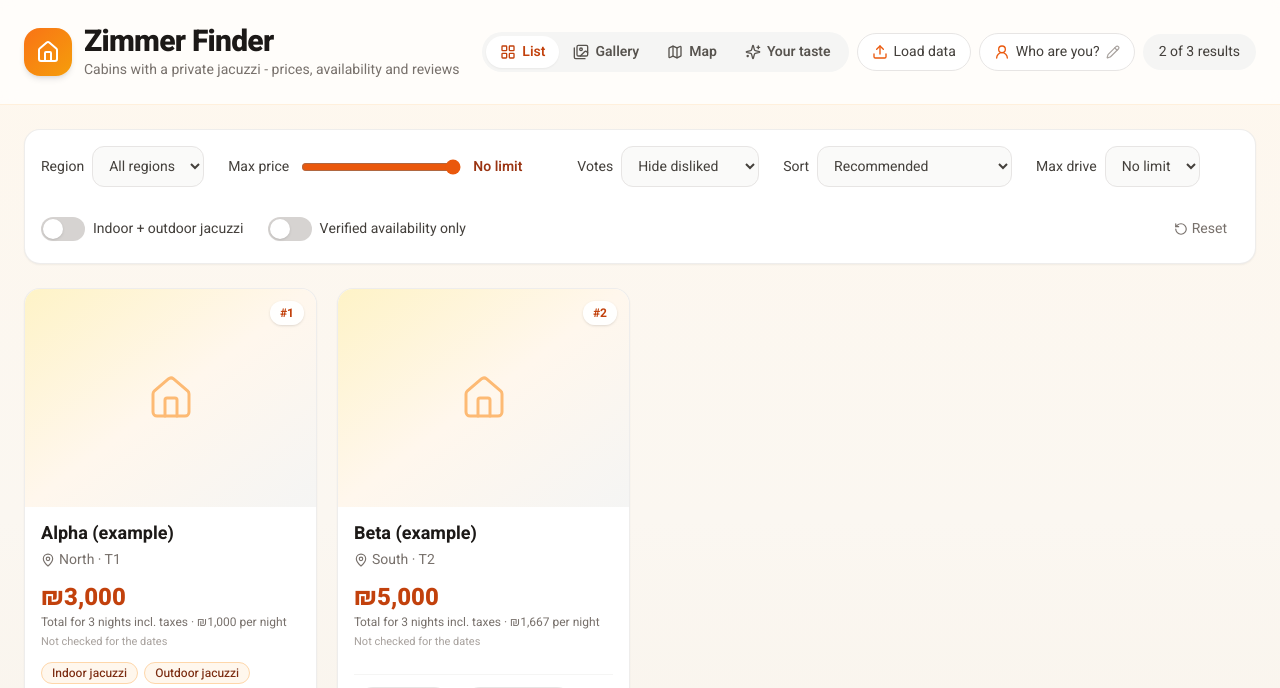
viewer mode › shows an error for invalid pasted JSON
Expected: the heading "Alpha (example)" is shown, [41,520,174,547]
Click the button "Load data" at (914, 52), box [857,33,971,71]
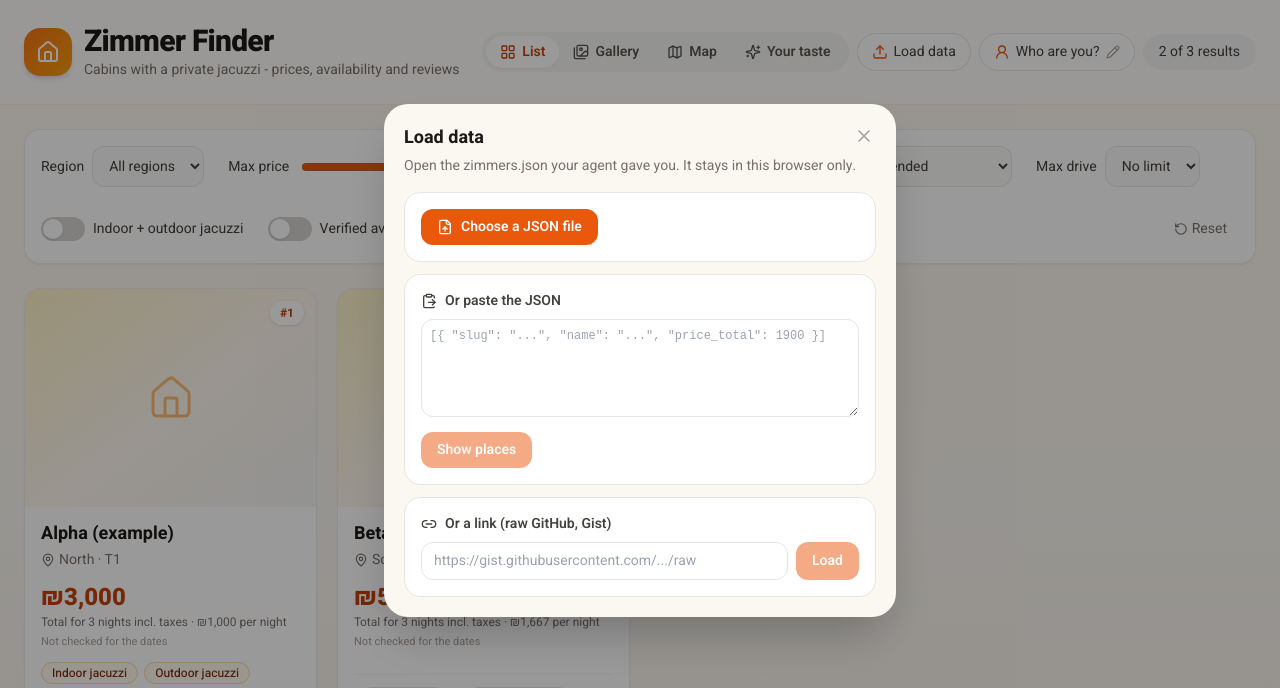
Type "not json" into the text box labelled "Or paste the JSON" at (640, 368), box [421,318,859,416]
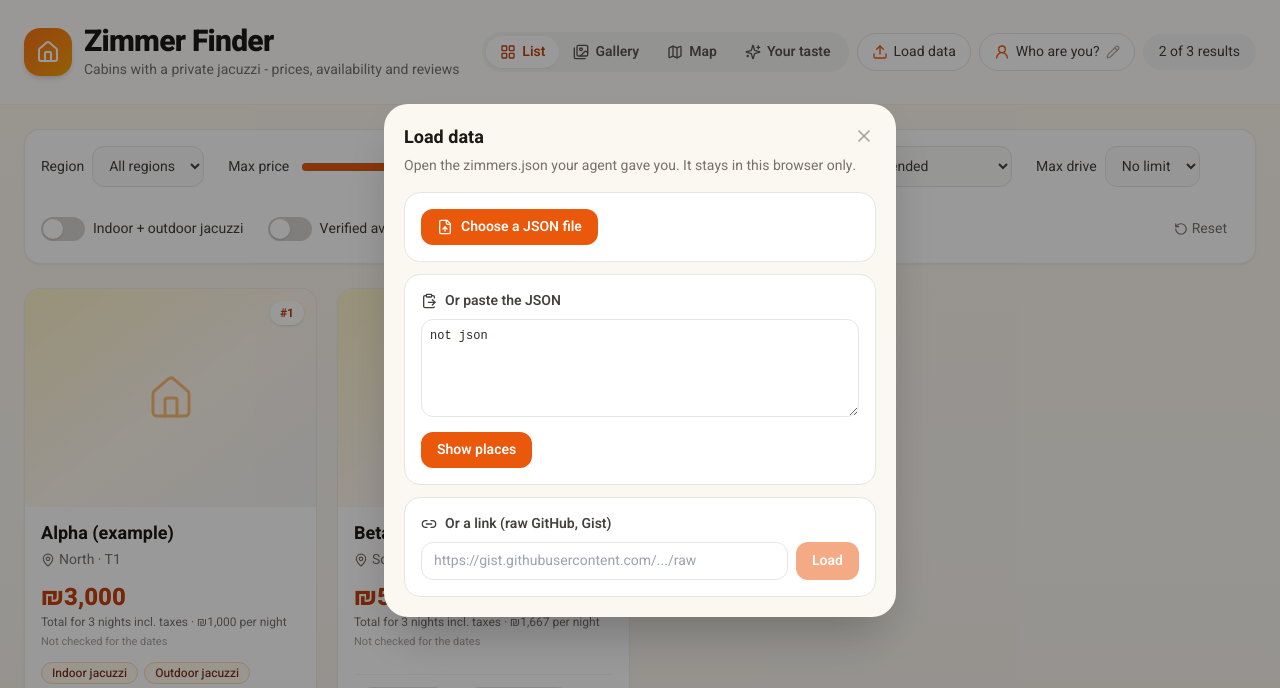
Click the button "Show places" at (477, 450), box [421,432,532,468]
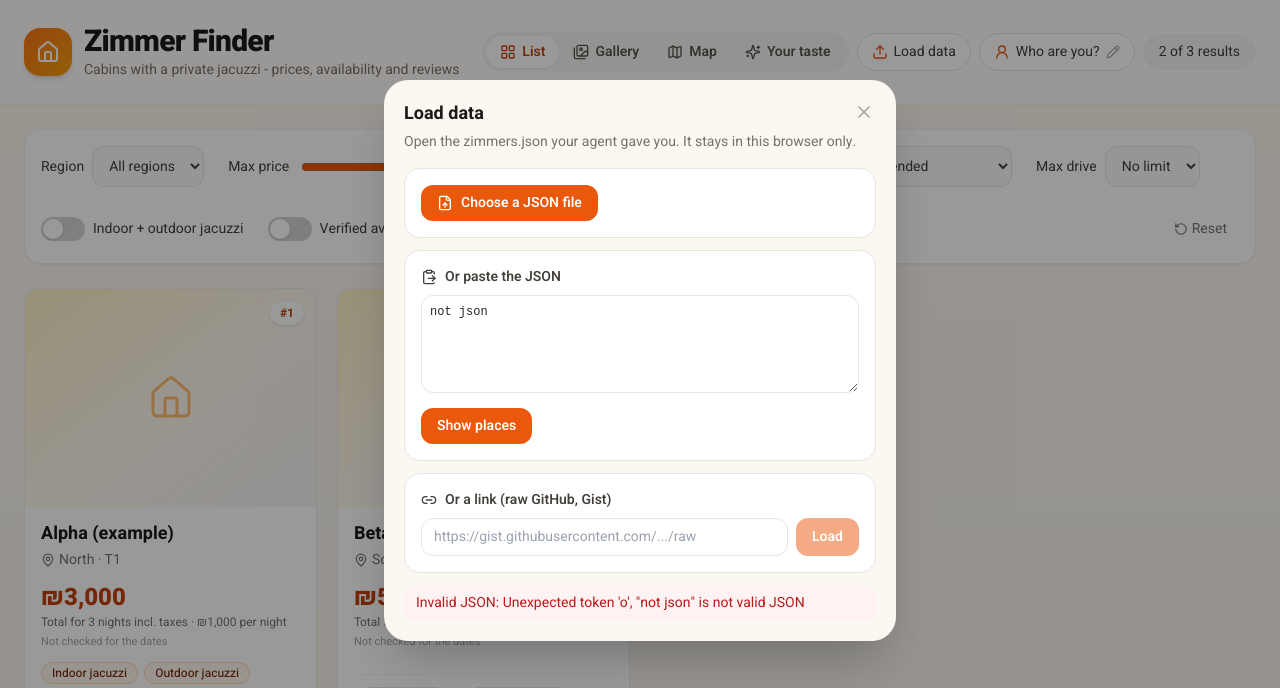
Expected: the message shows "Invalid JSON", [416,592,805,612]
